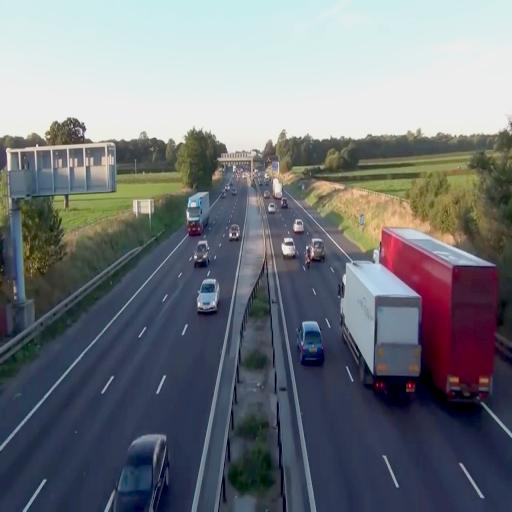vehicle: (378, 226, 499, 404), (378, 227, 499, 404), (340, 258, 423, 395), (340, 258, 422, 395), (104, 434, 170, 512), (298, 320, 324, 364), (186, 192, 210, 237), (186, 192, 210, 236), (196, 278, 220, 313), (304, 238, 325, 268), (192, 239, 210, 268), (281, 237, 298, 258), (228, 224, 240, 242), (292, 218, 304, 234)
